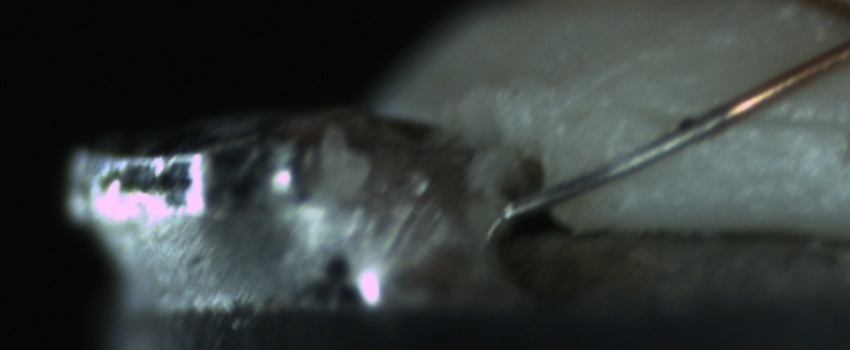DL: (734, 93, 849, 149)
TS: (504, 107, 732, 219)
